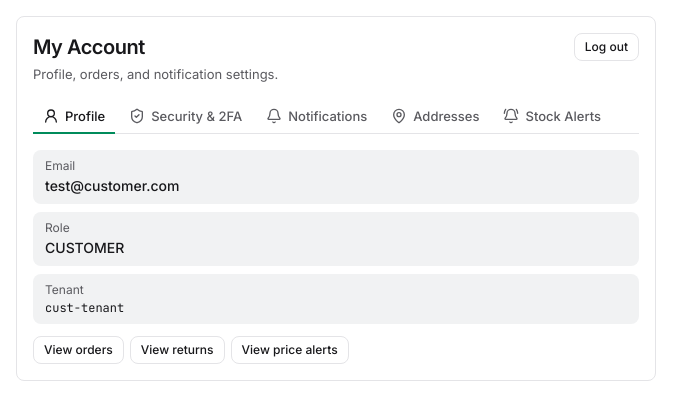
Customer Back-in-Stock Alerts (Frontend UI) › 8. Customer Account page displays stock alerts and allows cancellation
Expected: the heading "My Account" is shown, [33,35,145,59]
Click the tab "Stock Alerts".
click(552, 117)  # box [494,100,611,134]
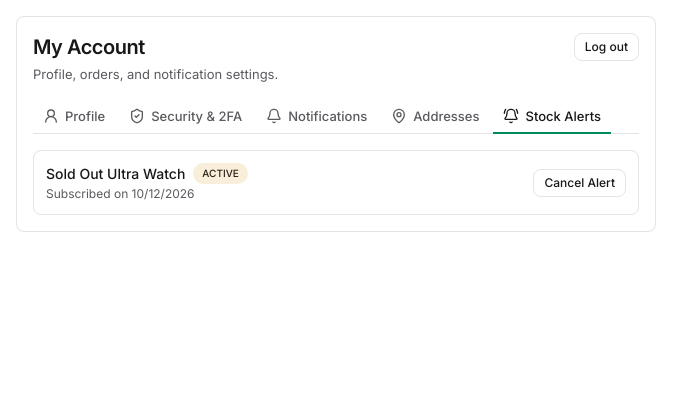
Result: the link "Sold Out Ultra Watch" is shown at [46,164,185,184]
Result: the button with test id "cancel-alert-prod-out" is shown
Click the button with test id "cancel-alert-prod-out".
click(580, 182)  # box [534,168,626,196]
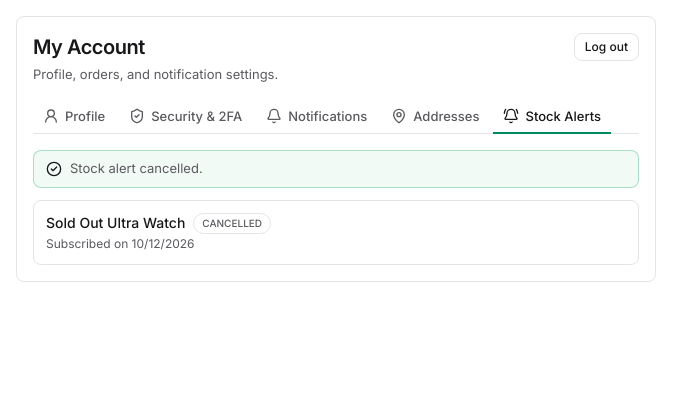
Result: the text "Stock alert cancelled." is shown at [70,159,203,178]
